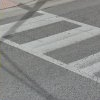crosswalk: (0, 14, 100, 76)
